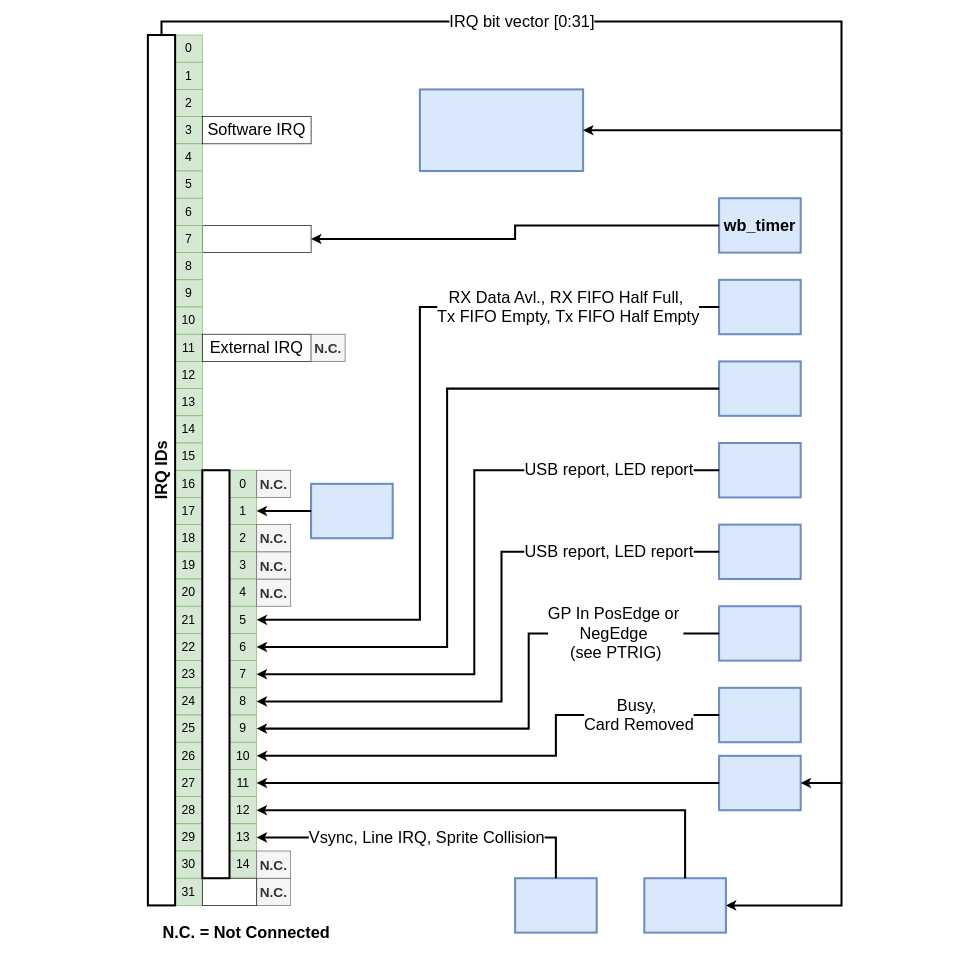
The diagram is 975 pixels wide and 955 high, and some of its shapes have lost their labels. Each missing label, with the centre of its shape:
"DFX" goes at pixel 351 510.
"Fast IRQs" goes at pixel 215 674.
"gpio" goes at pixel 759 633.
"I2C" goes at pixel 759 388.
"Ibex RISC-V" goes at pixel 501 130.
"NMI" goes at pixel 229 891.
"Picorv DMA" goes at pixel 759 782.
"sdspi" goes at pixel 759 714.
"Timer IRQ" goes at pixel 256 239.
"USB HID 0" goes at pixel 759 470.
"USB HID 1" goes at pixel 759 551.
"vera" goes at pixel 555 905.
"VS0" goes at pixel 685 905.
"wbuart" goes at pixel 759 306.
